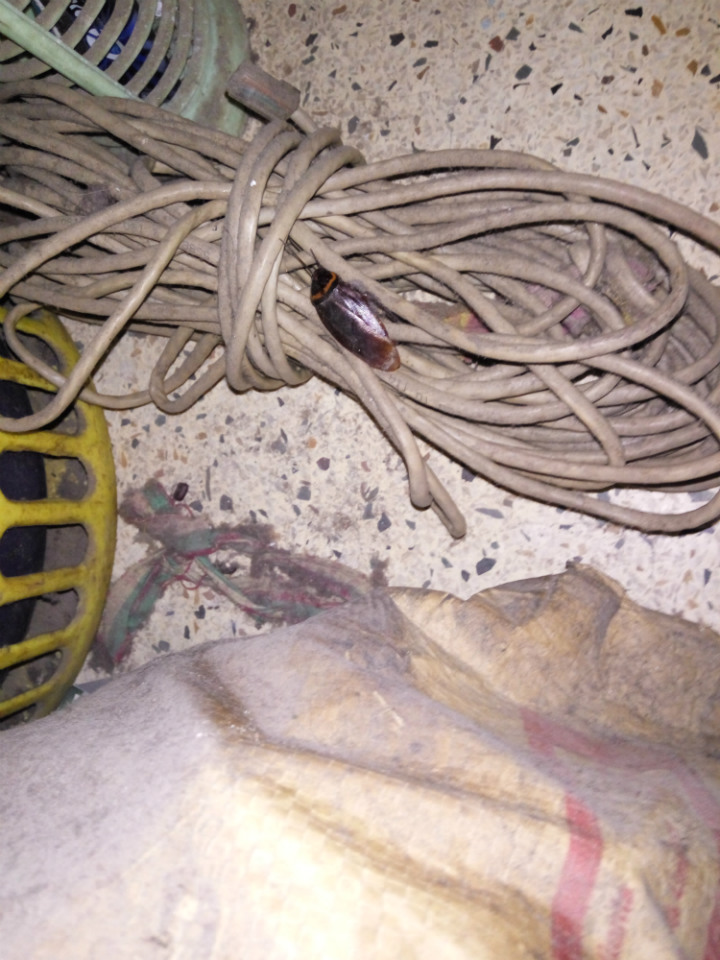cockroach: (278, 246, 425, 390)
